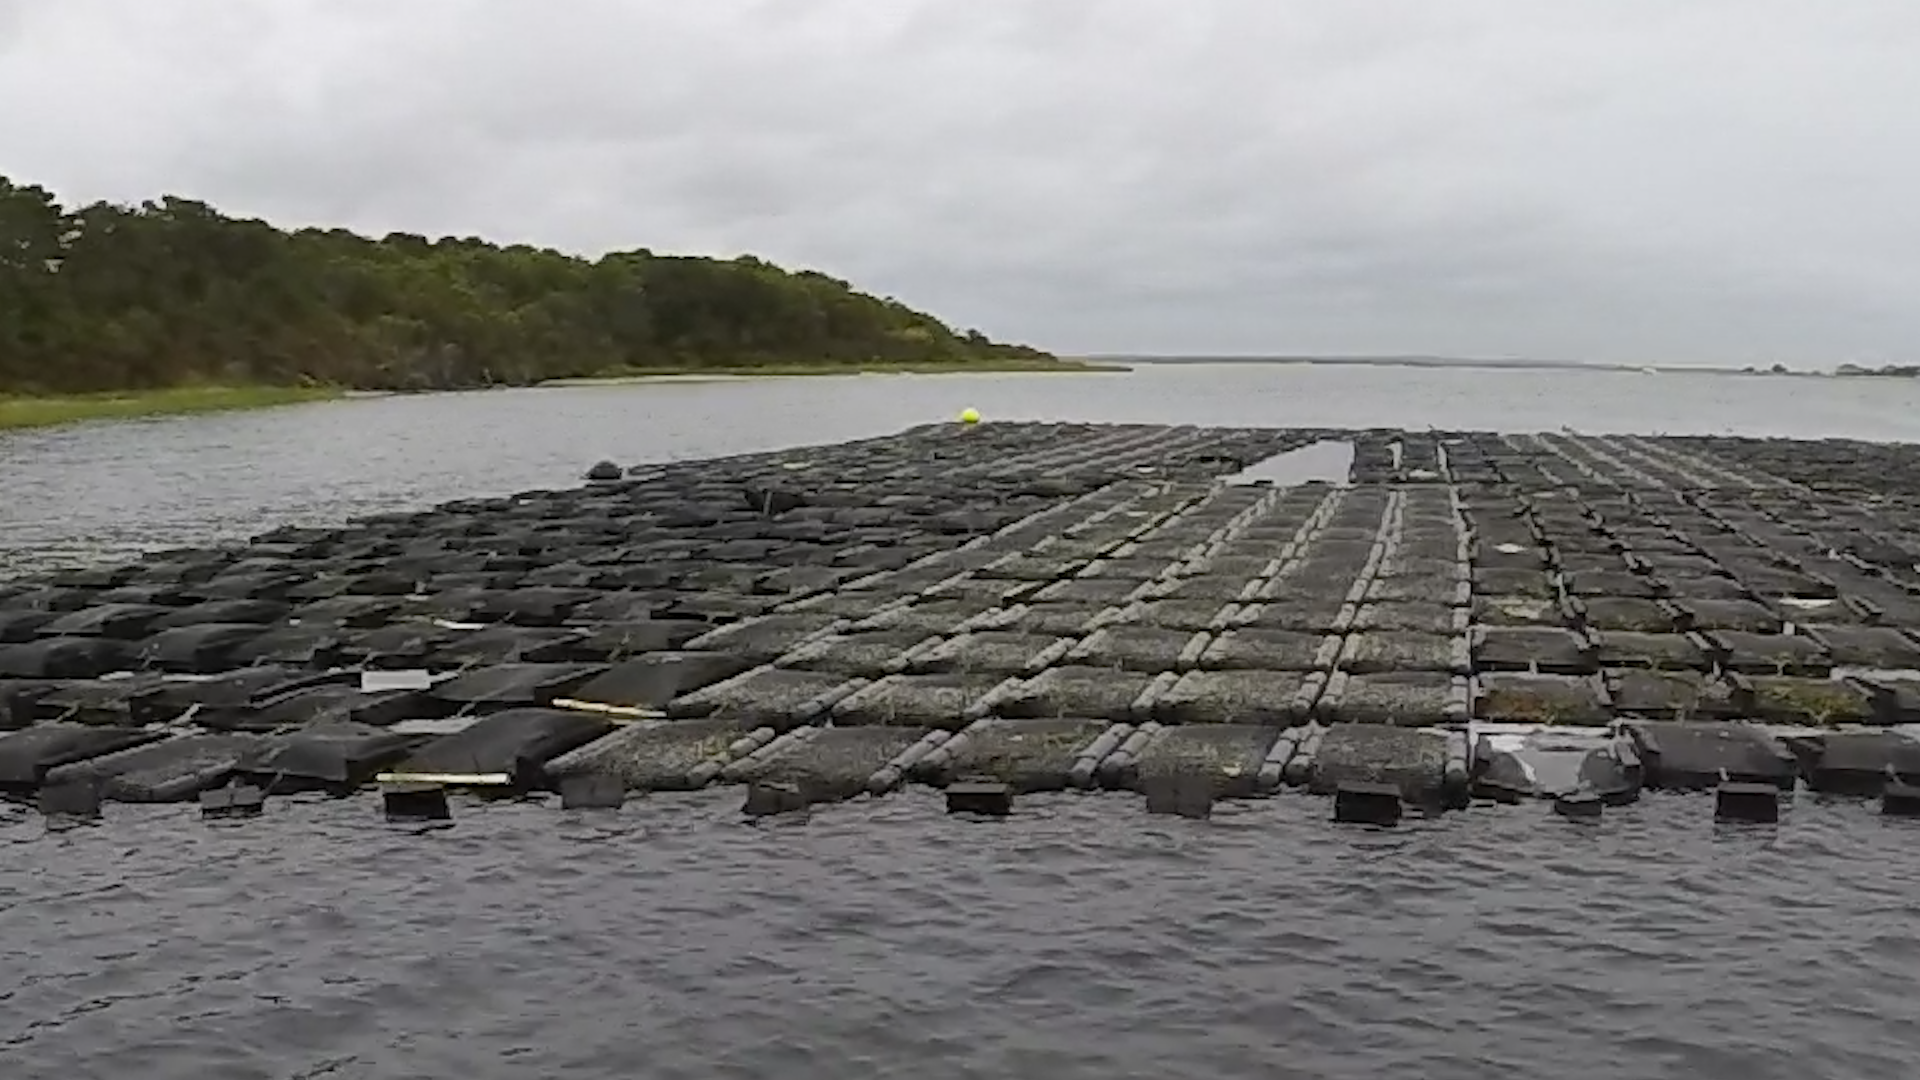bag: (543, 713, 779, 796), (713, 723, 951, 794), (918, 712, 1130, 787), (1621, 709, 1795, 789), (1291, 720, 1468, 798), (1098, 720, 1303, 786)
